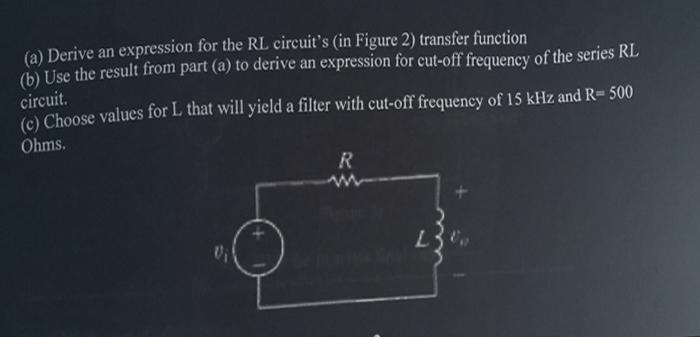Battery: (219, 208, 298, 280)
